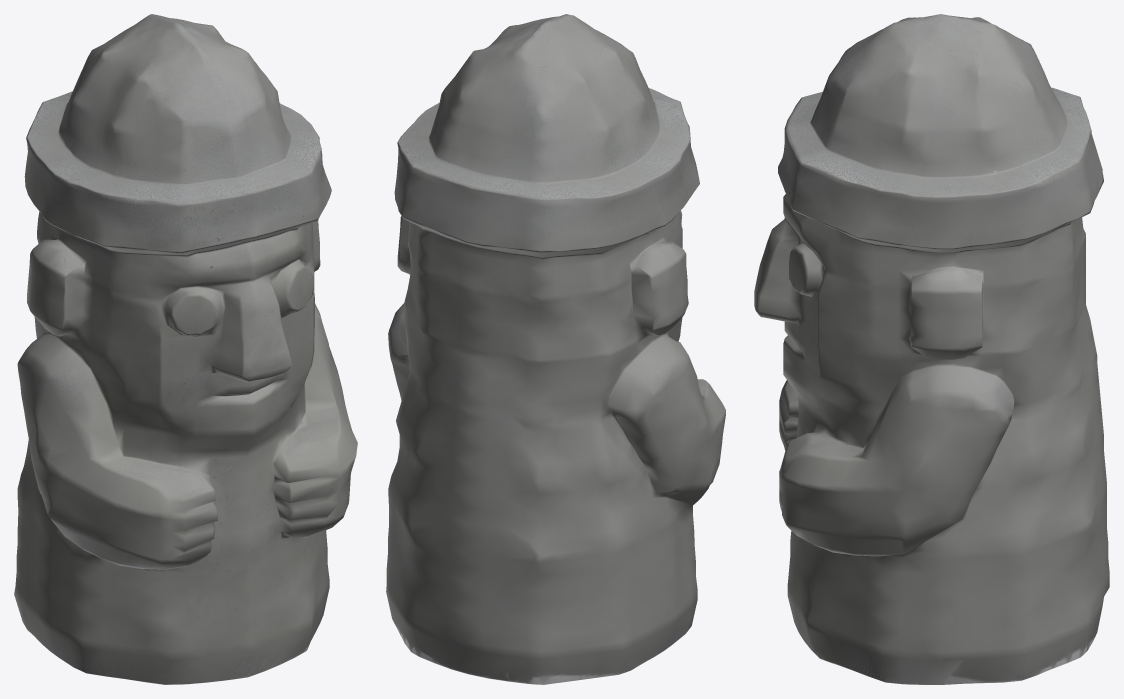
File: stone-guardian.glb
3 renders of one model, left to right at view 1: azimuth 30°, elevation 25°; view 2: azimuth 150°, elevation 25°; view 3: azimuth 270°, elevation 25°, orthographic. The views are drawn at different scales.
Visible parts, largest first — view 1: Mesh_0; view 2: Mesh_0; view 3: Mesh_0.
Part boxes in pixels (bbox=[...]): Mesh_0: bbox=[14, 14, 357, 684]; Mesh_0: bbox=[386, 14, 725, 684]; Mesh_0: bbox=[754, 14, 1109, 684].
Size of the model in its own units: 0.6283 by 1.2 by 0.6333.
1 material, 1 textured.
